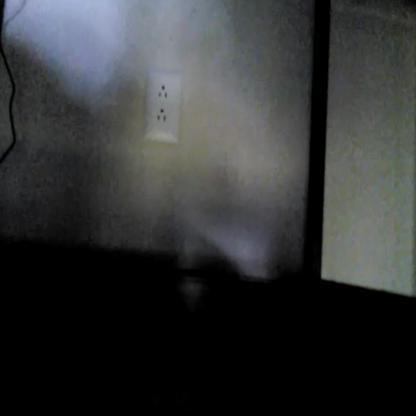OUTLET: (144, 70, 182, 142)
